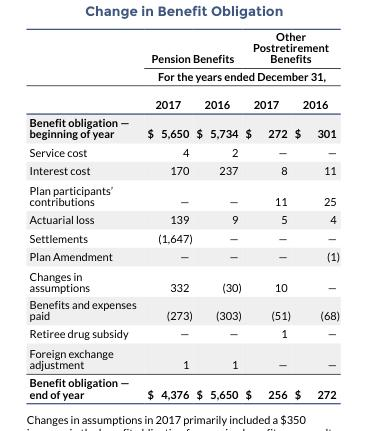table: (28, 29, 339, 399)
table column: (28, 29, 141, 399), (141, 29, 193, 399), (193, 29, 242, 399), (242, 29, 291, 399), (291, 29, 339, 399)
table column header: (28, 29, 339, 112)
table row: (28, 29, 339, 66), (28, 112, 339, 142), (28, 179, 339, 209), (28, 265, 339, 295), (28, 342, 339, 372), (28, 295, 339, 323), (28, 372, 339, 399), (28, 66, 339, 89), (28, 89, 339, 112), (28, 160, 339, 179), (28, 209, 339, 228), (28, 246, 339, 265), (28, 323, 339, 342), (28, 142, 339, 160), (28, 228, 339, 246)
table spanning cell: (141, 66, 339, 89), (141, 29, 242, 66), (242, 29, 339, 66)
